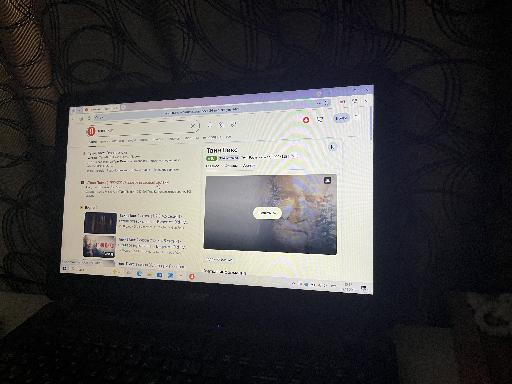yandex: (72, 111, 372, 274)
